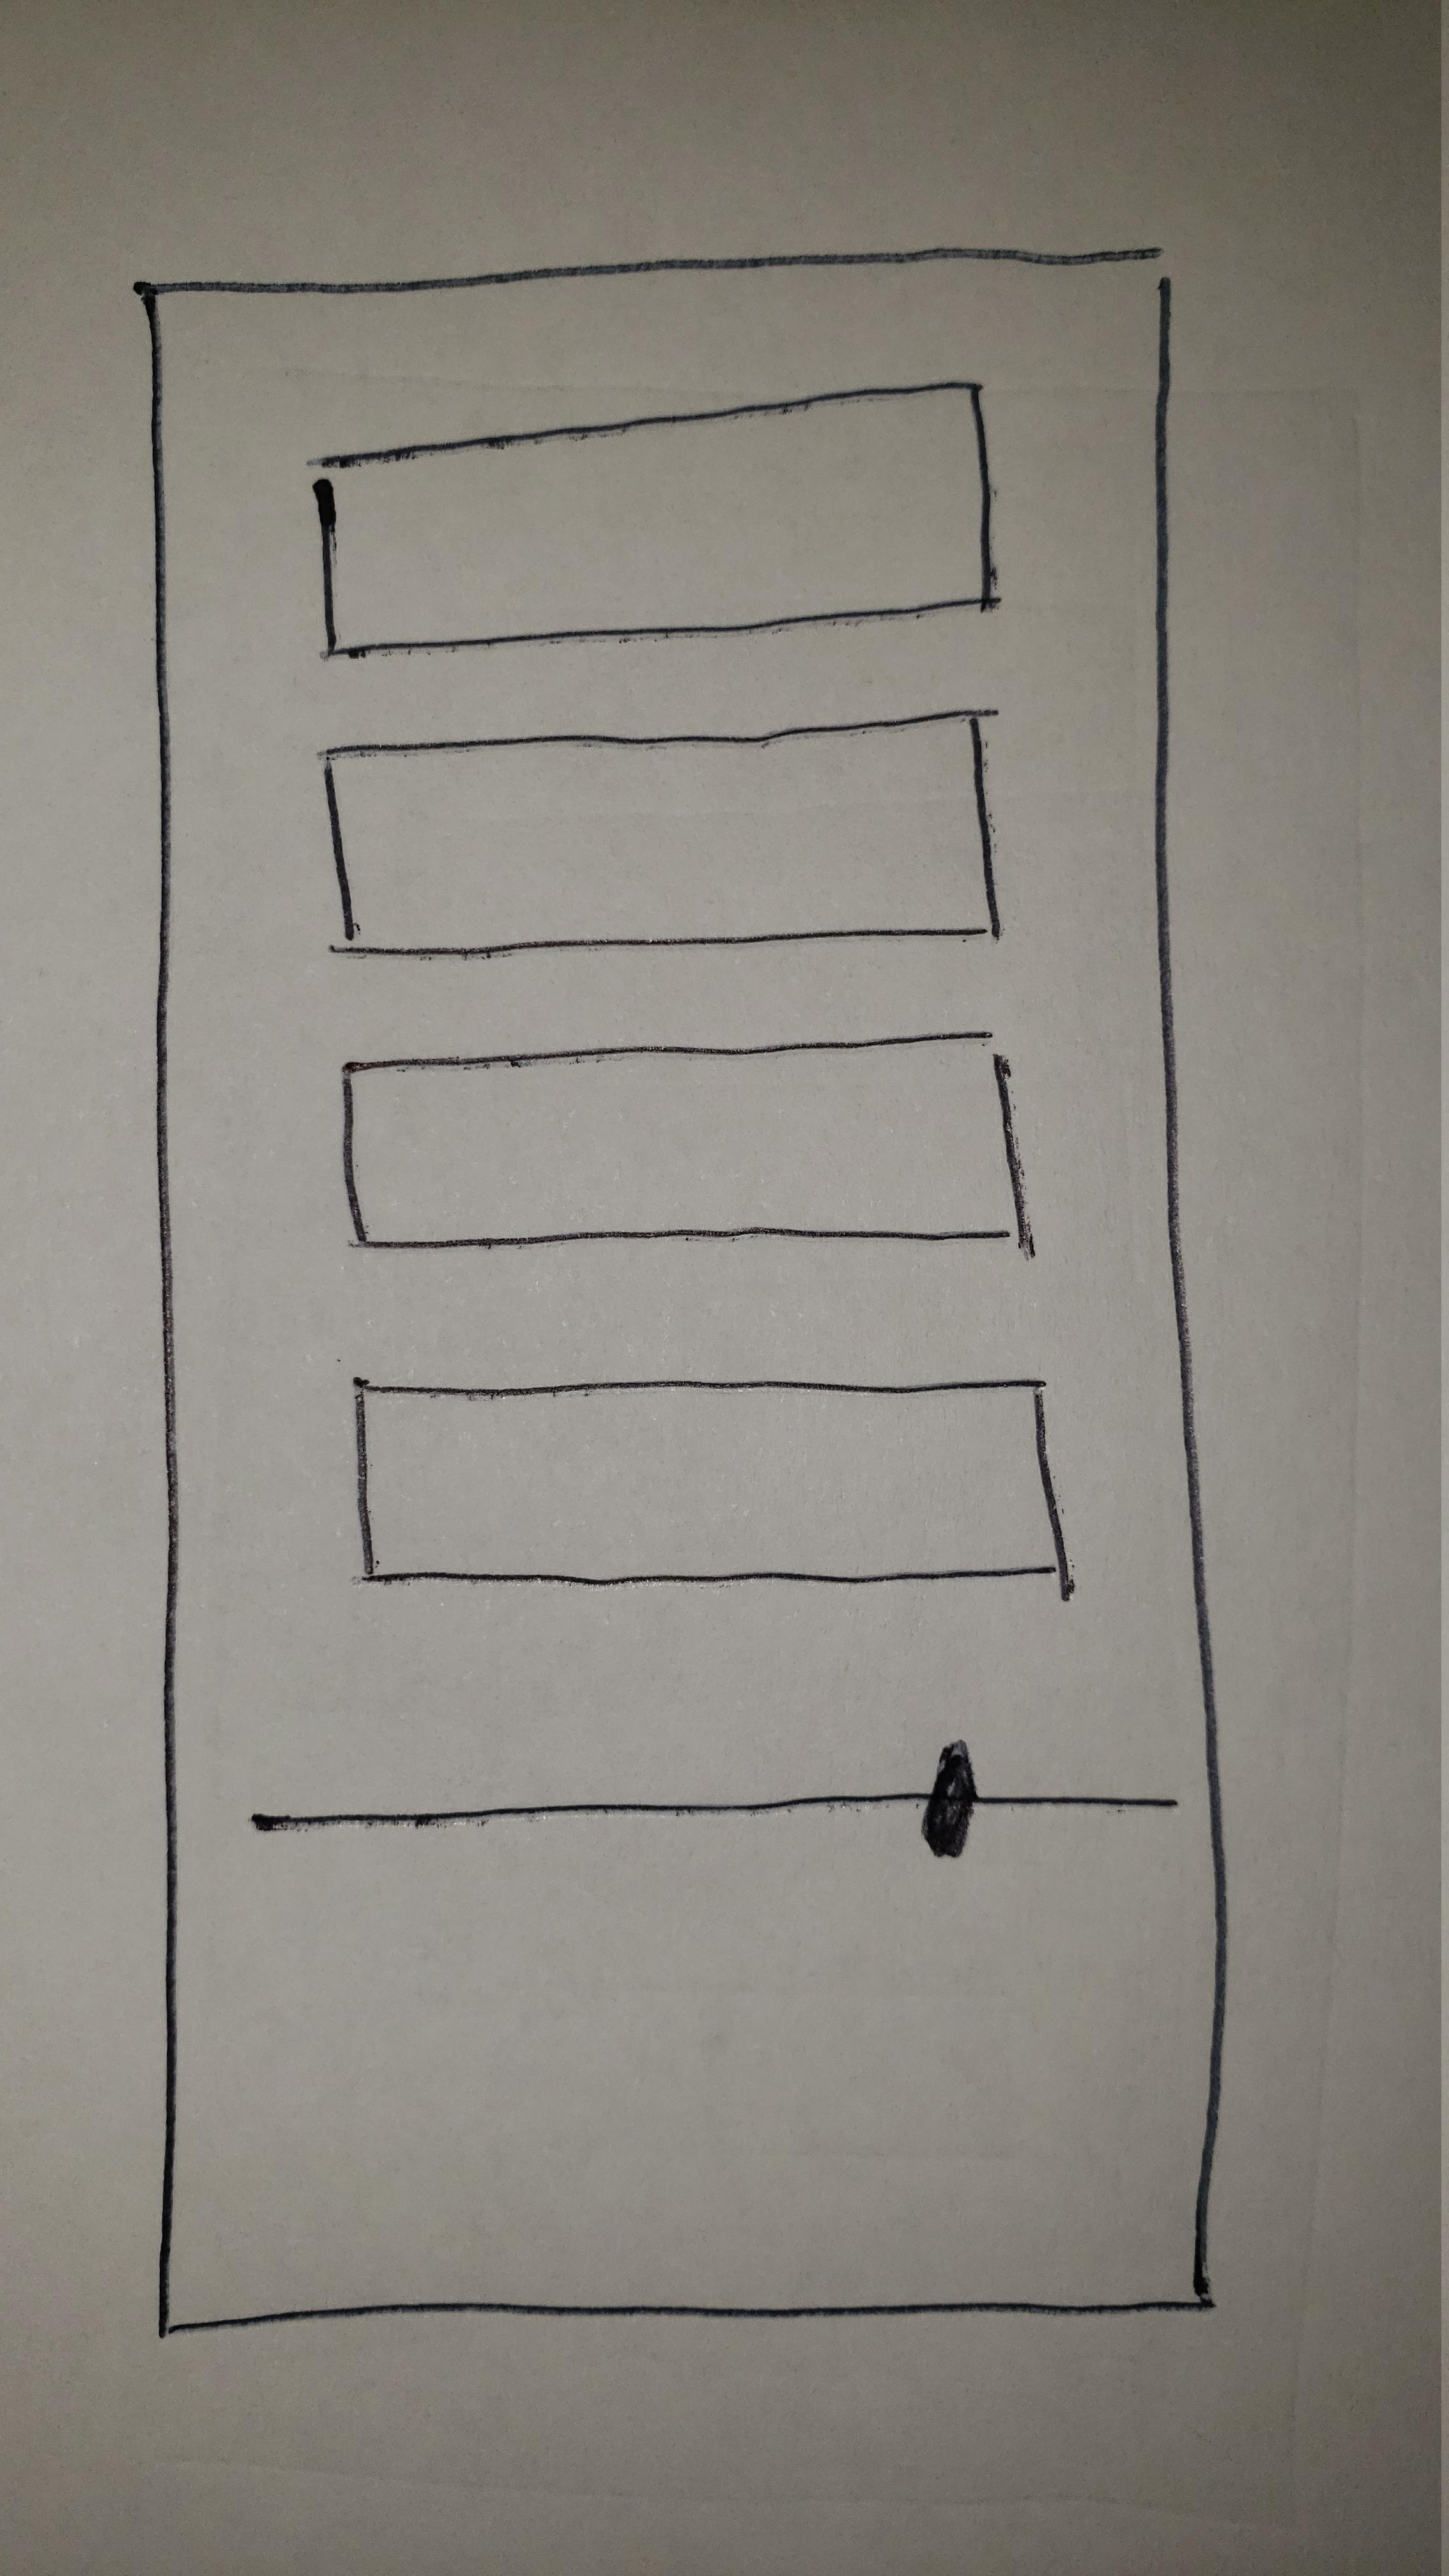Button: (317, 380, 994, 658), (318, 709, 1000, 957), (352, 1378, 1076, 1598), (340, 1031, 1033, 1251)
Screen: (131, 248, 1230, 2339)
Slider: (248, 1737, 1173, 1856)
